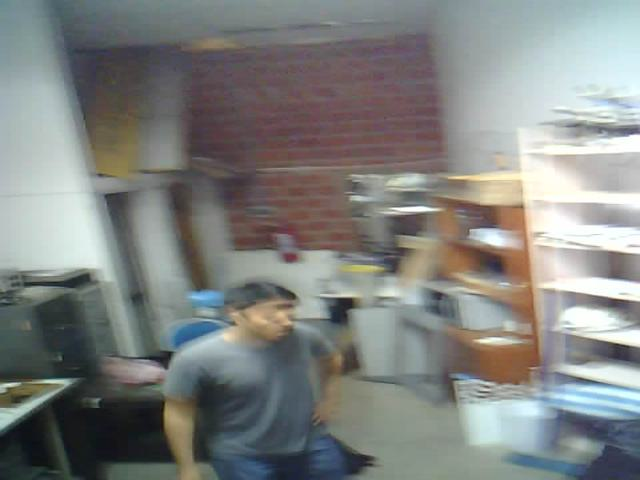person: (140, 259, 371, 480)
